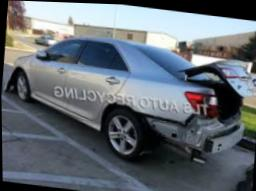Bumper: (138, 112, 243, 162)
